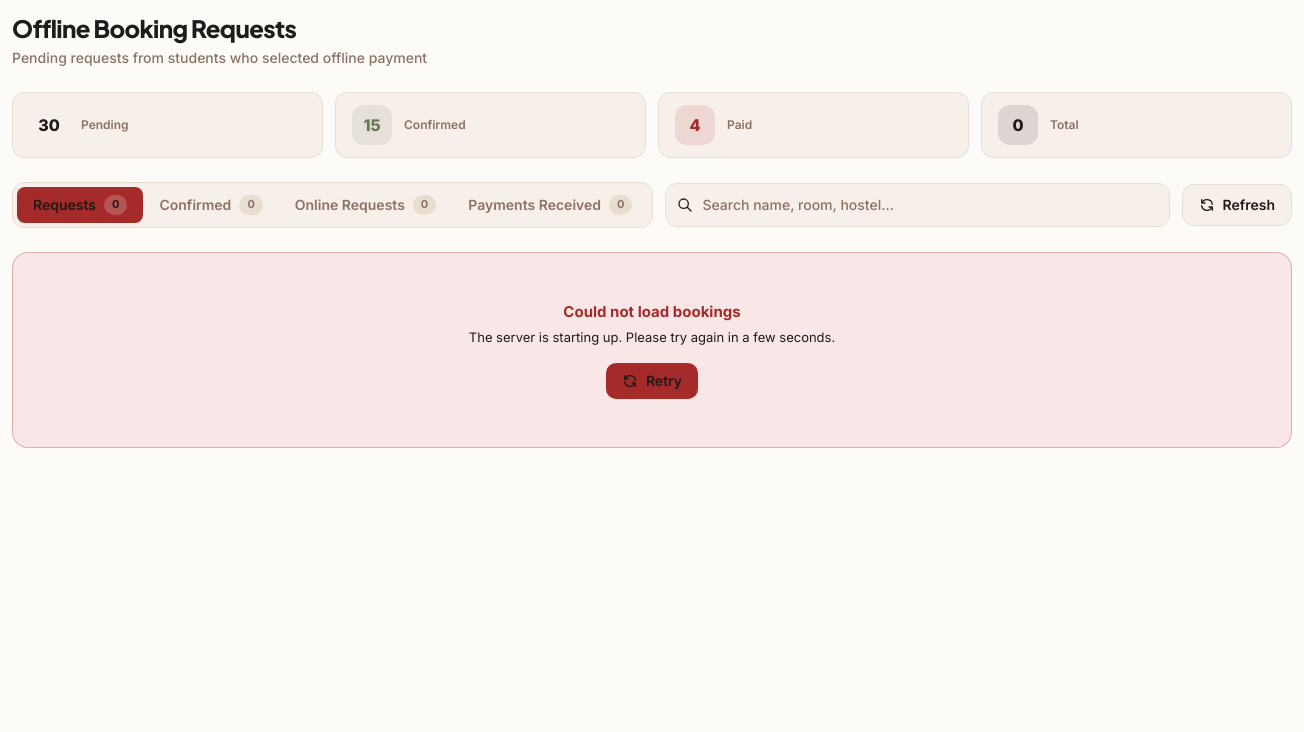
Test case: when the bookings cannot be loaded › shows the reason and a Retry that works, not an empty "no bookings" page
Check: the text "Could not load bookings" is shown, box [563,302,741,321]
Check: the text "The server is starting up. Please try again in a few seconds." is shown, box [469,328,835,344]
Click the button "Retry": (652, 381) [606,363,698,399]
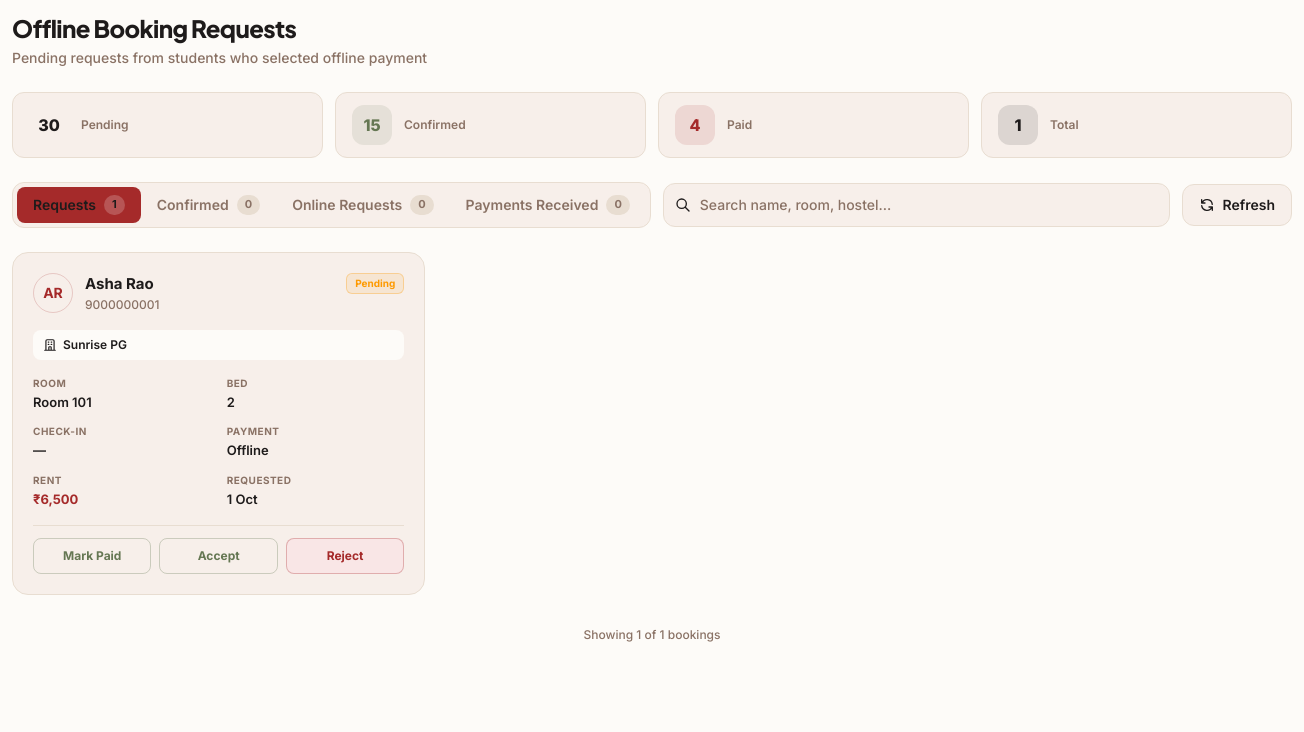
Check: the text "Asha Rao" is shown, box [85,273,160,296]
